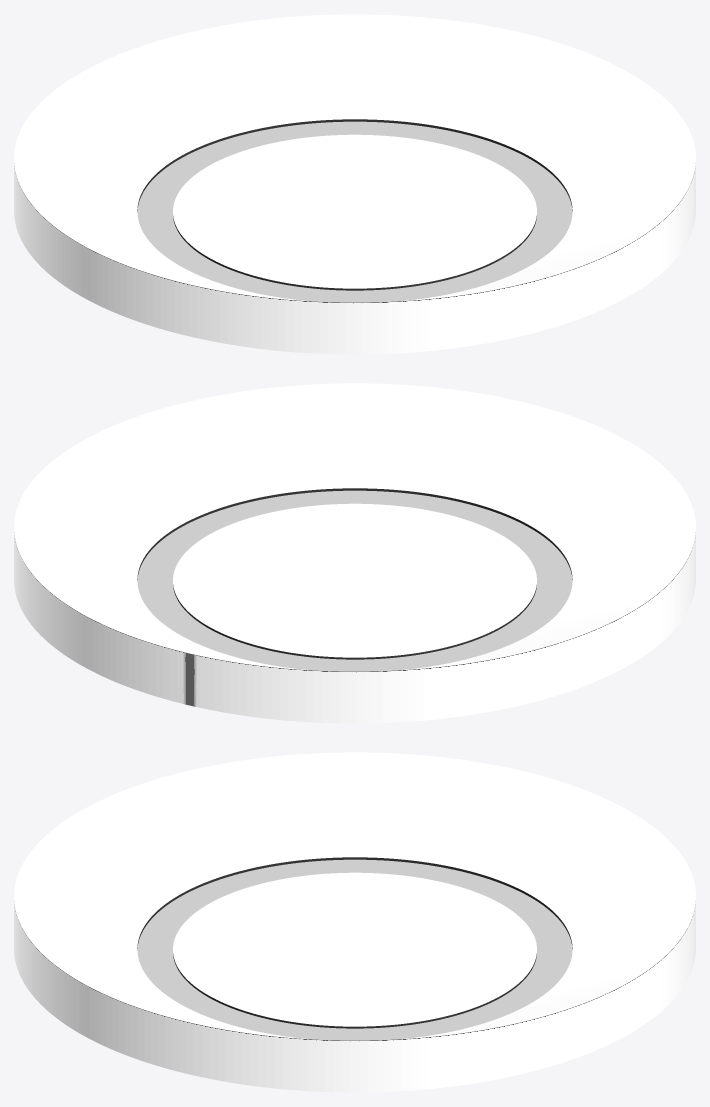
3 views of the same model, one above another, from view 1: azimuth 30°, elevation 25°; view 2: azimuth 150°, elevation 25°; view 3: azimuth 270°, elevation 25° (orthographic).
Visible parts, largest first — view 1: Seating; view 2: Seating; view 3: Seating.
Part boxes in pixels (x1,y1,x2,y2): Seating: [14, 14, 695, 354]; Seating: [14, 383, 695, 723]; Seating: [14, 752, 695, 1092].
Size of what is drawn, in the model's own units: 116 by 10.35 by 116.
3 materials, 1 textured.
